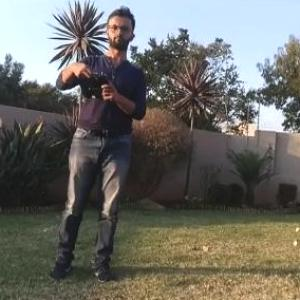follow: (46, 1, 150, 288)
